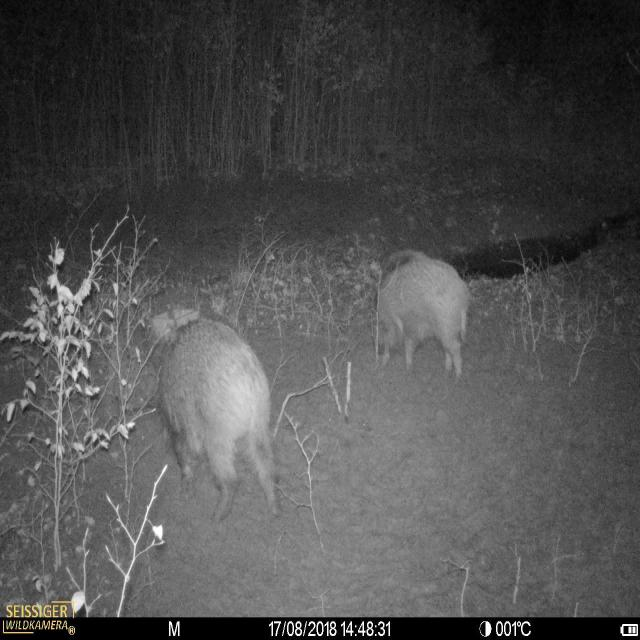wild boar: (153, 309, 285, 522), (368, 245, 476, 384)
